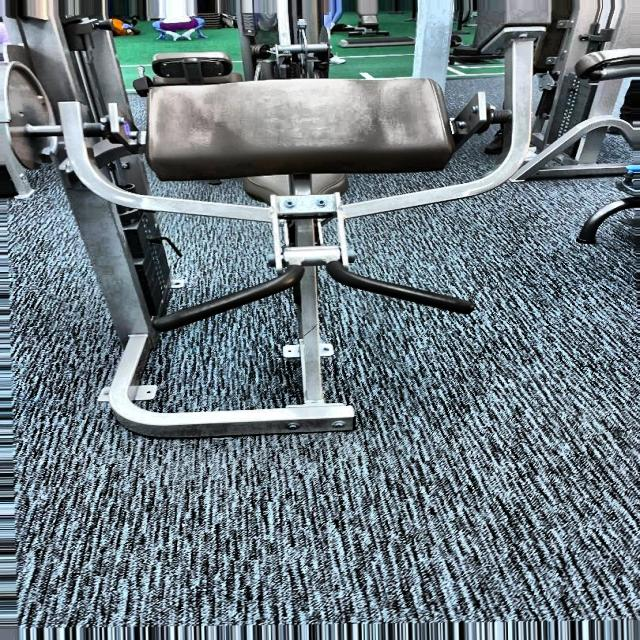bicep_curl_machine: (56, 68, 574, 457)
